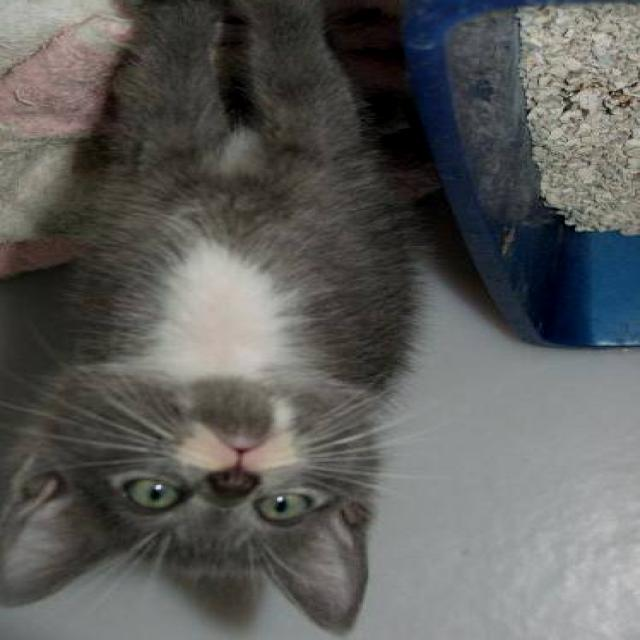Kucing: (2, 20, 453, 633)
